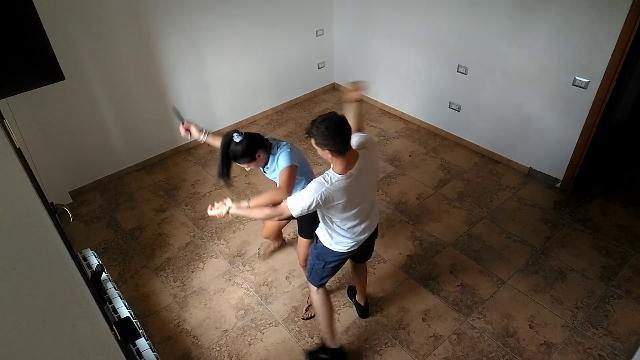knife: (169, 101, 198, 142)
violence: (165, 80, 385, 360)
